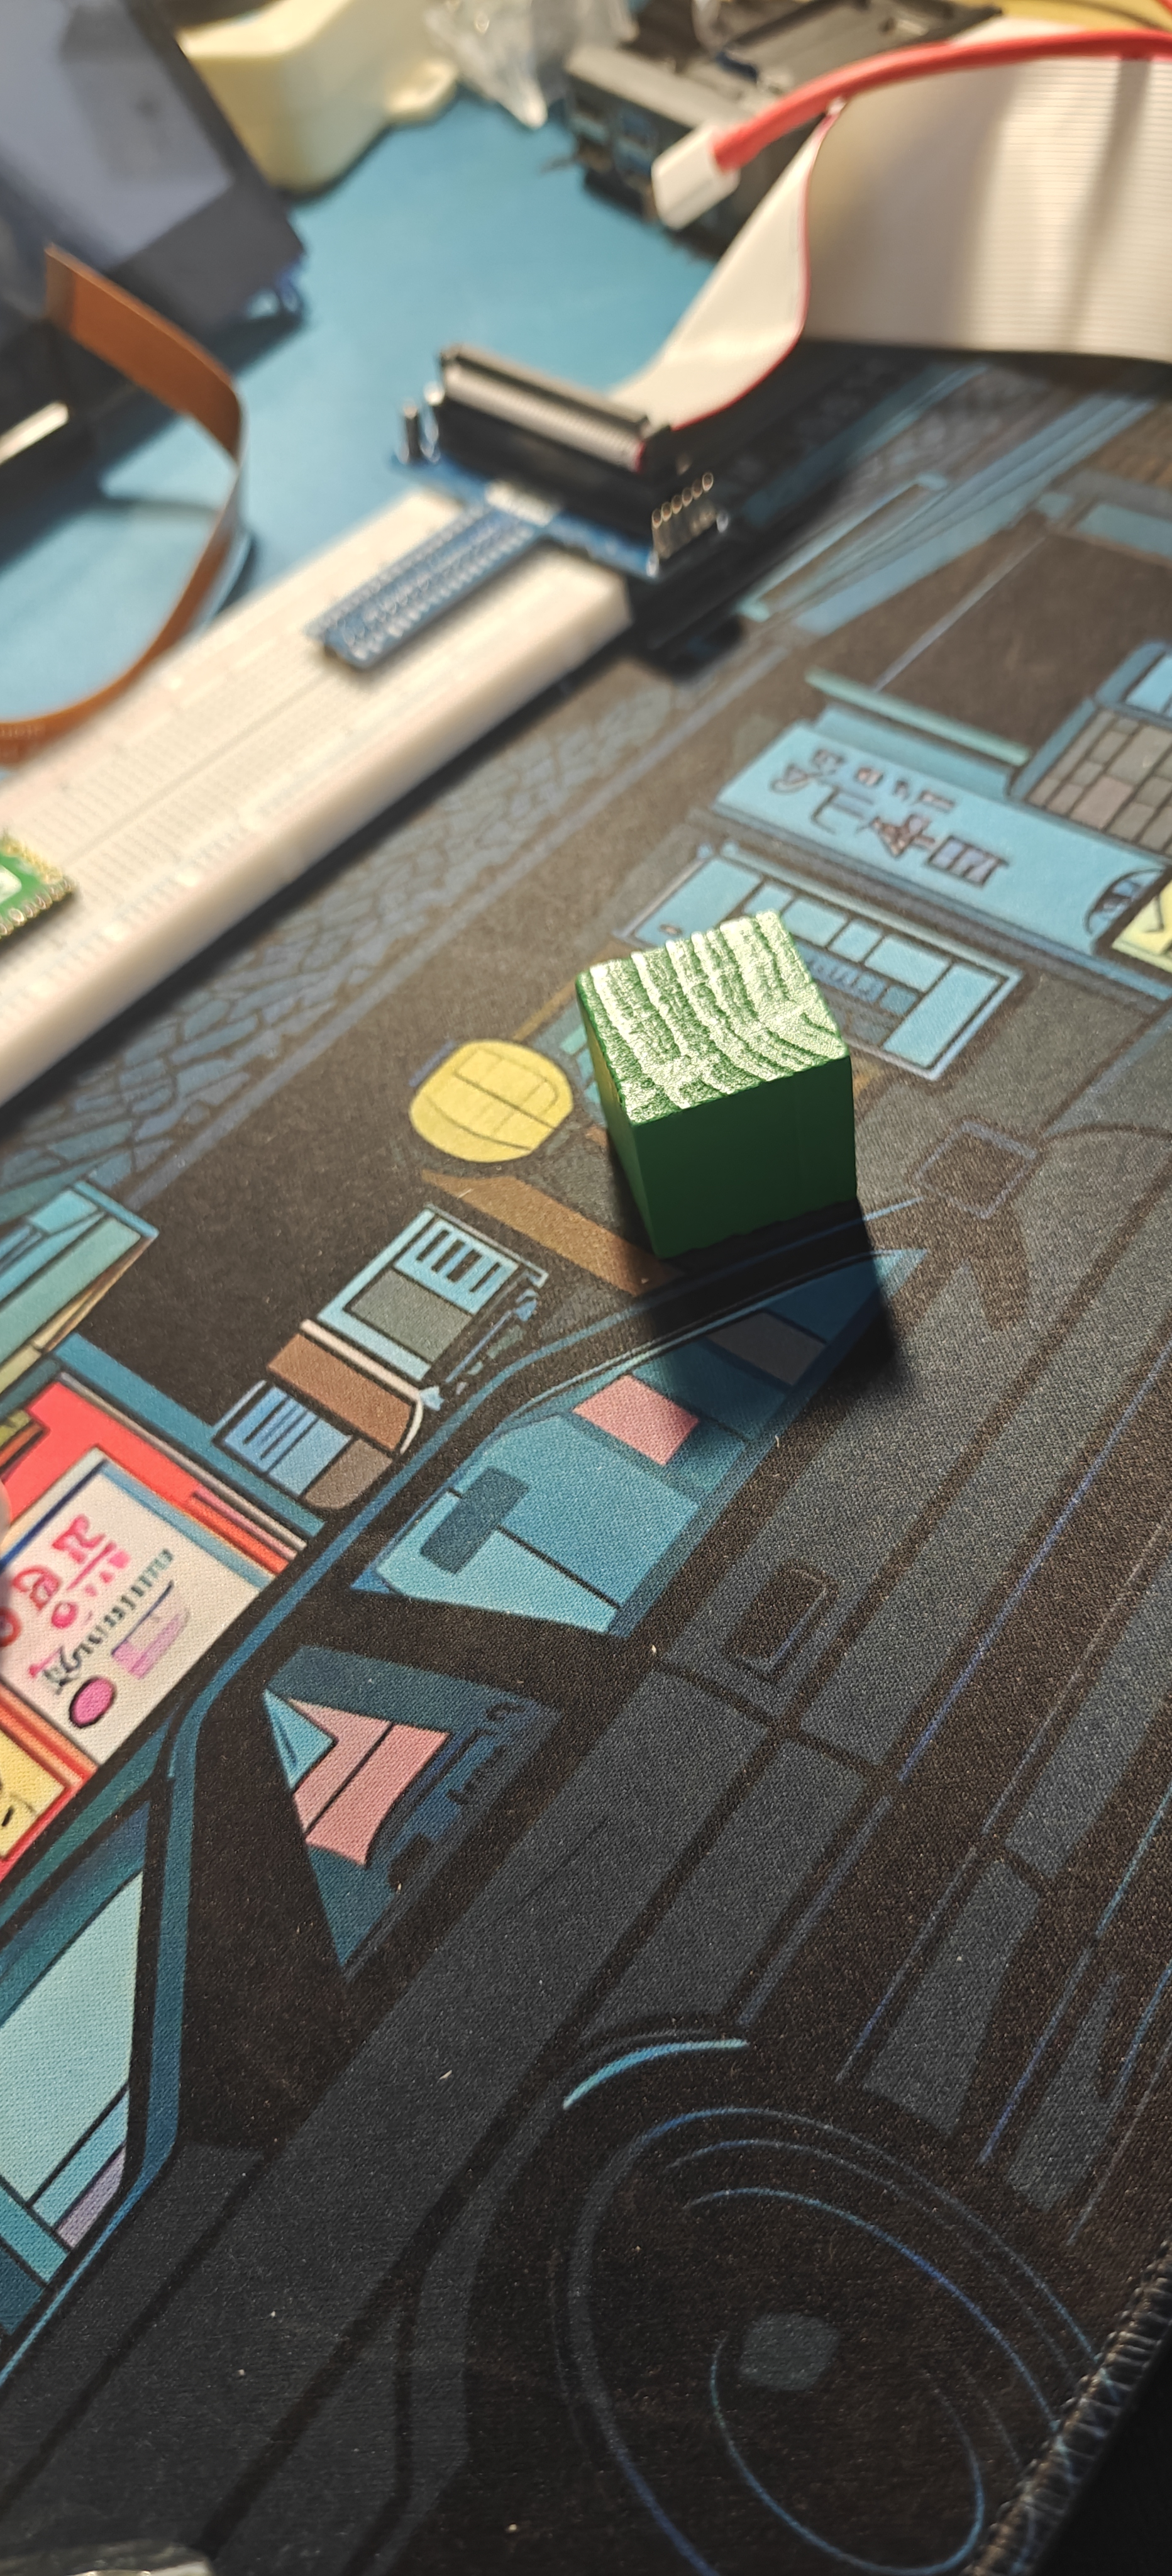green block: (571, 902, 868, 1273)
